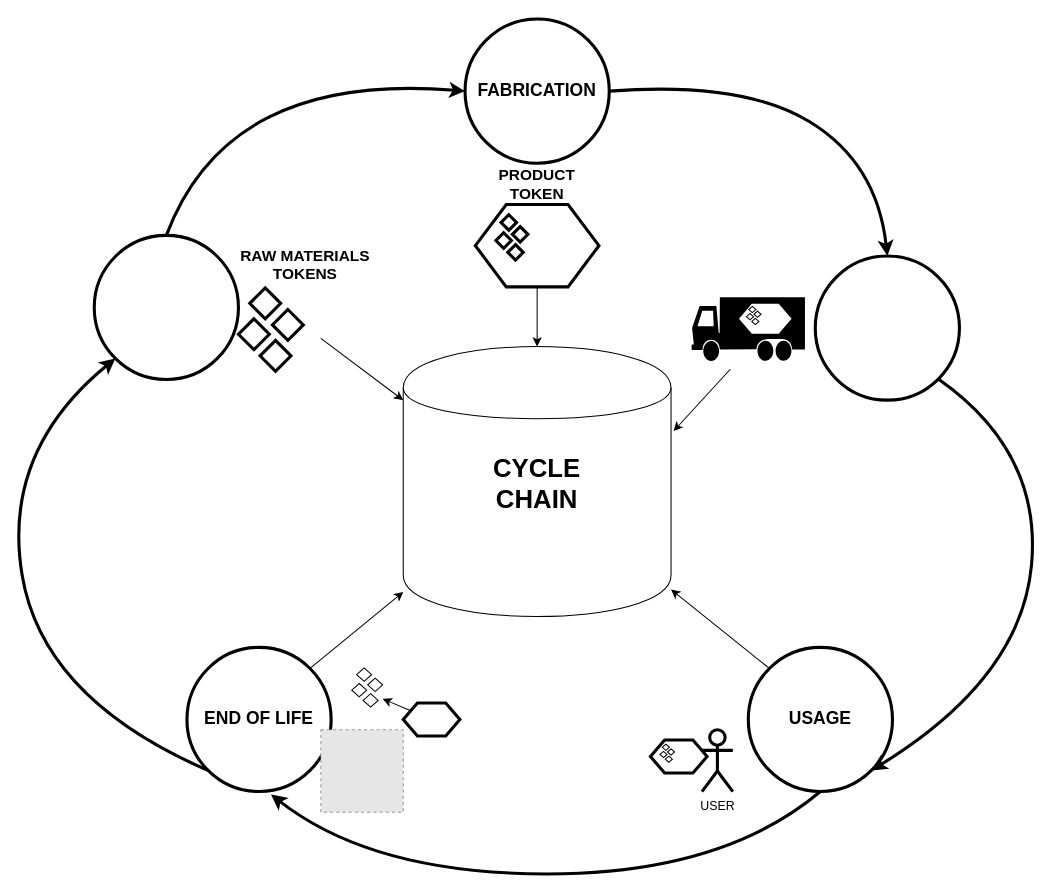
The diagram is 1053 pixels wide and 893 high, and some of its shapes have lost their labels. Grey dashed boxes stand in for pictures. Here are the shapes that lost their labels. From the top down, the centre of each, then its label:
the point at 165,307: EXTRACTION
the point at 886,327: TRANSPORT
